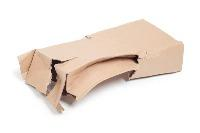damaged package: (23, 50, 144, 111)
undamaged: (15, 16, 184, 114)
